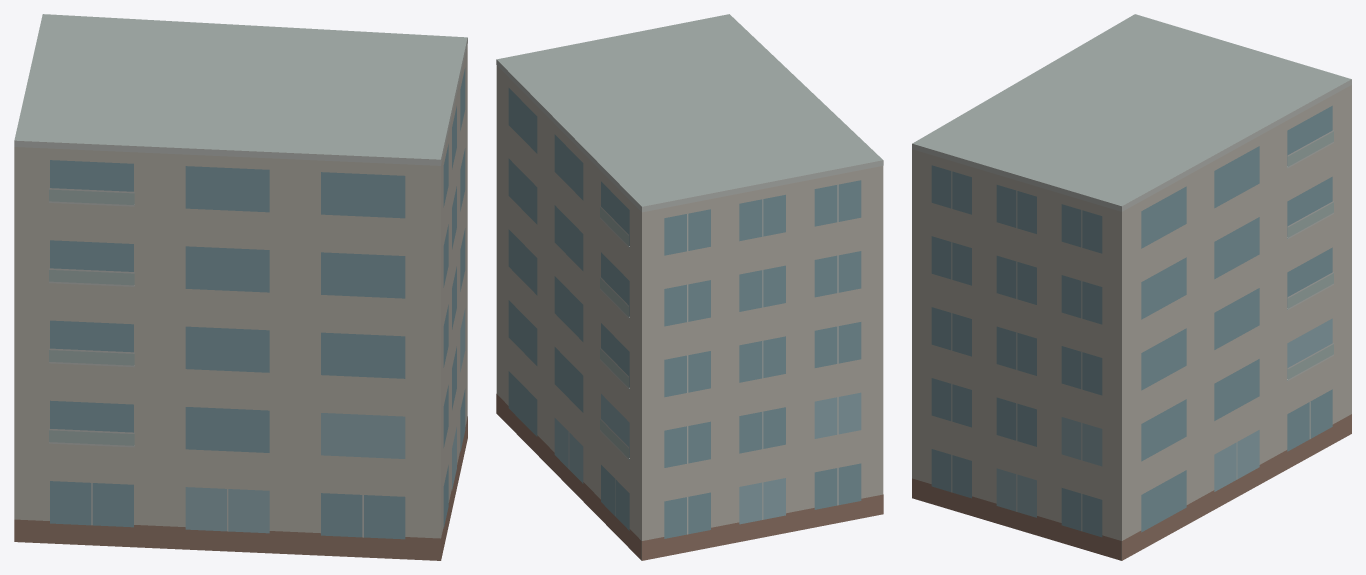
File: survey-upis-32780364.glb
3 views of the same model, side by side, from view 1: azimuth 30°, elevation 25°; view 2: azimuth 150°, elevation 25°; view 3: azimuth 270°, elevation 25° (orthographic). The views are drawn at different scales.
Visible parts, largest first — view 1: survey-upis-32780364.tmp; view 2: survey-upis-32780364.tmp; view 3: survey-upis-32780364.tmp.
Part boxes in pixels (x1,y1,x2,y2): survey-upis-32780364.tmp: (14,14,467,560); survey-upis-32780364.tmp: (496,14,883,560); survey-upis-32780364.tmp: (912,14,1351,560).
Size of the model in its own units: 18.04 by 15.5 by 17.43.
